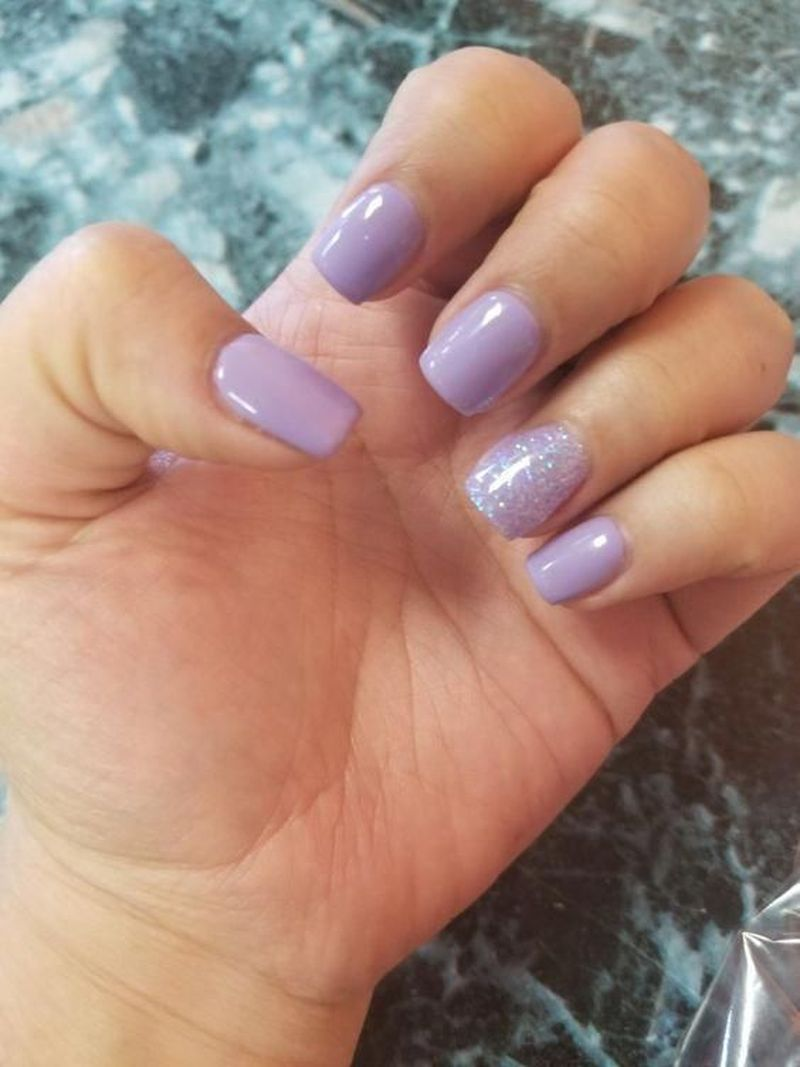nails: (206, 313, 365, 463), (461, 414, 594, 547), (416, 292, 549, 421), (312, 177, 435, 309), (521, 511, 634, 618)
